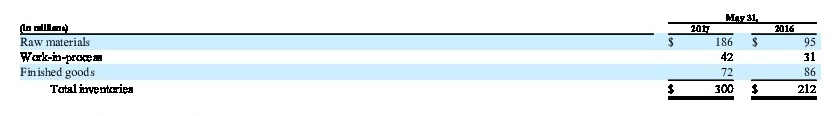table: (0, 0, 832, 116)
